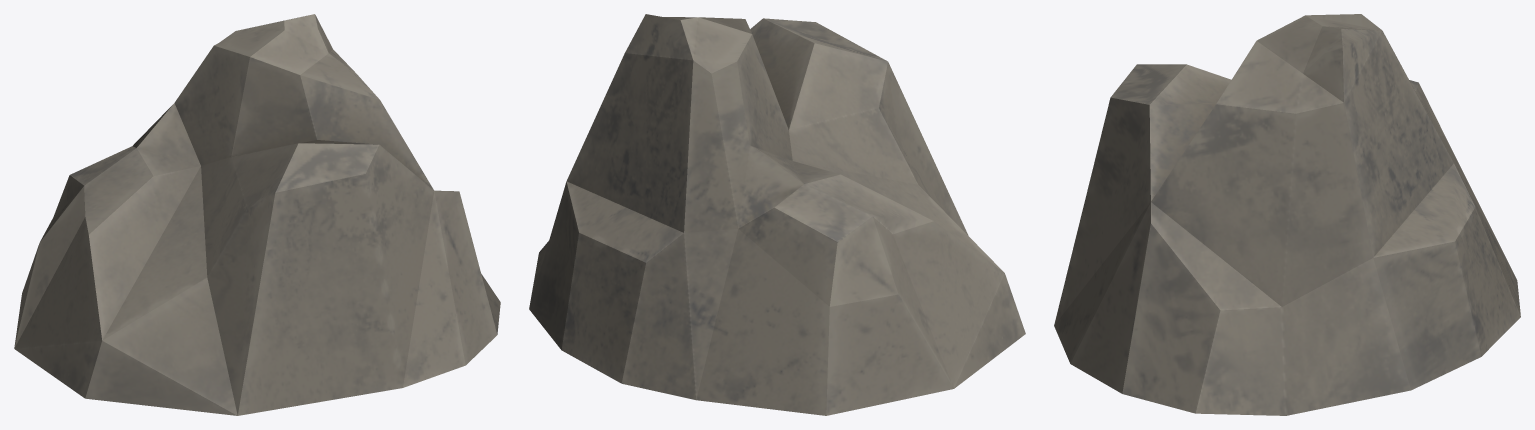
File: Rock_01.fbx
3 views of the same model, side by side, from view 1: azimuth 30°, elevation 25°; view 2: azimuth 150°, elevation 25°; view 3: azimuth 270°, elevation 25° (orthographic). The views are drawn at different scales.
Parts seen in each view (by area): view 1: Icosphere.003; view 2: Icosphere.003; view 3: Icosphere.003.
Part boxes in pixels (box(x1,y1,x2,y2)): Icosphere.003: box(14, 14, 500, 415); Icosphere.003: box(529, 14, 1025, 415); Icosphere.003: box(1054, 14, 1520, 415).
Bounding box in the file's own units: 353 × 219 × 306.
